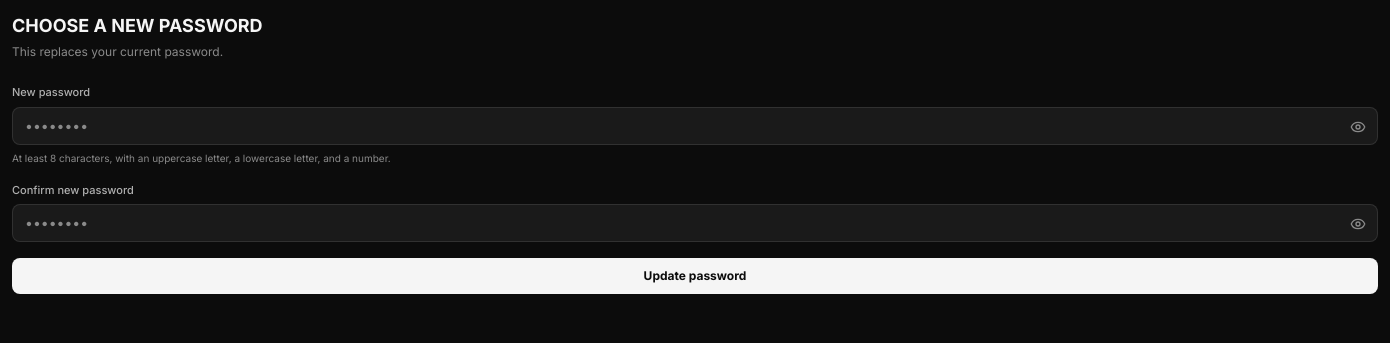
it: ResetPasswordForm › clears a failed reset when either password changes
In the password field labelled "New password": point(695, 126) left=12, top=106, right=1378, bottom=144, type "Memory404"
In the password field labelled "Confirm new password": point(695, 223) left=12, top=204, right=1378, bottom=242, type "Memory404"
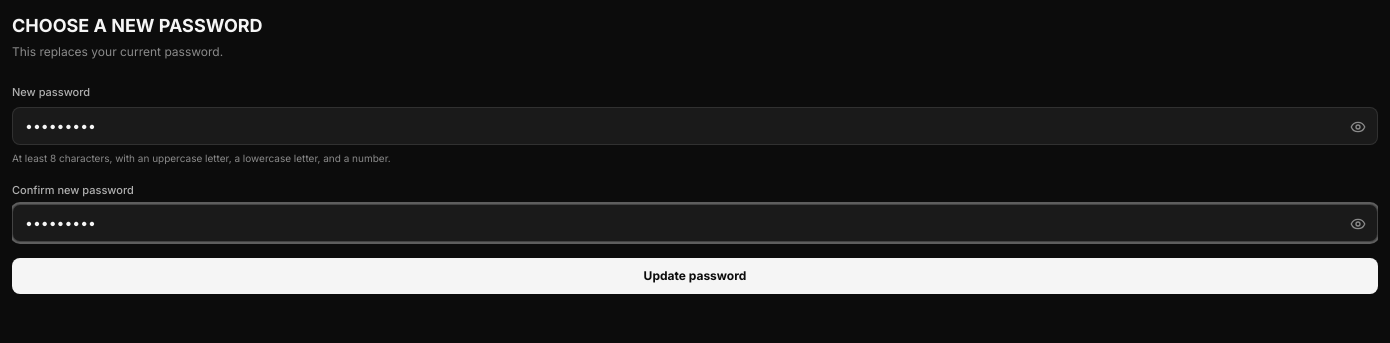
Click the button "Update password": point(695, 276) left=12, top=258, right=1378, bottom=294
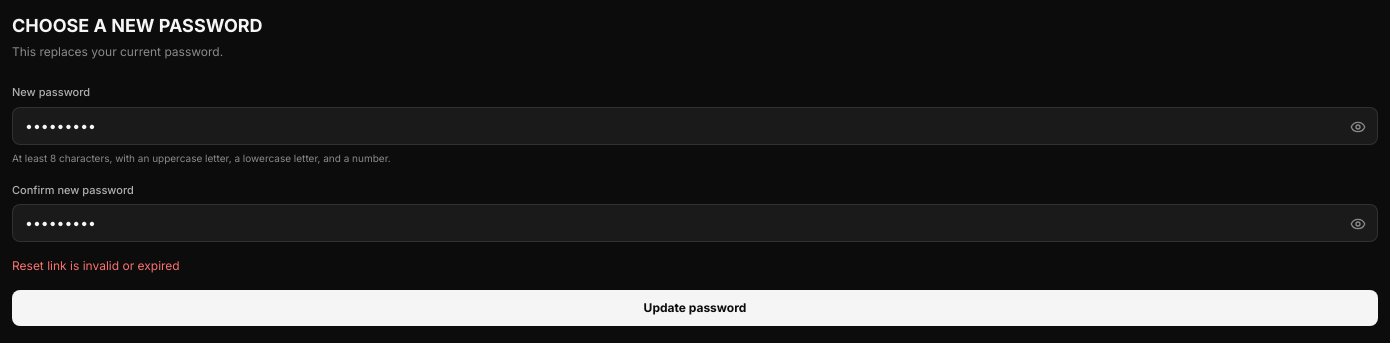
expect the message reads "Reset link is invalid or expired": met, box left=12, top=258, right=180, bottom=273
In the password field labelled "New password": point(695, 126) left=12, top=106, right=1378, bottom=144, type "1"
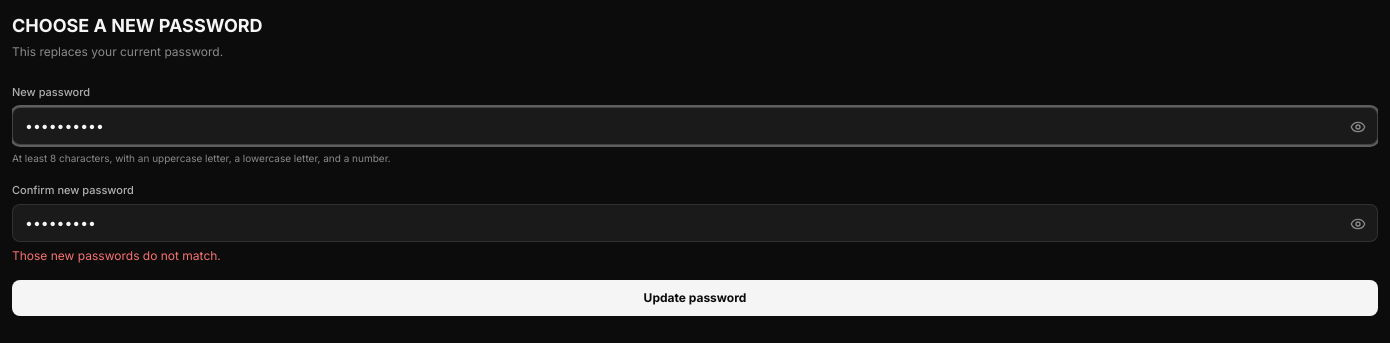
expect the text "Reset link is invalid or expired" is gone: met
In the password field labelled "Confirm new password": point(695, 223) left=12, top=204, right=1378, bottom=242, type "1"
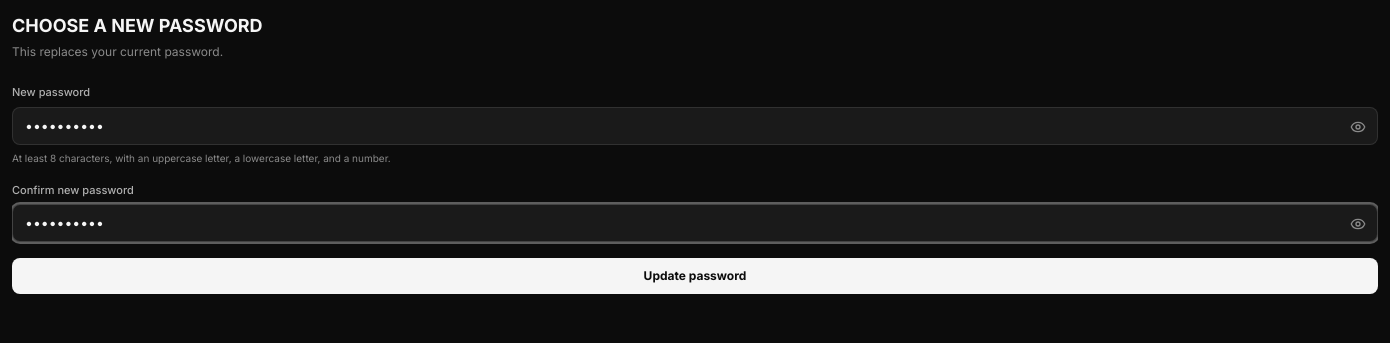
Click the button "Update password": point(695, 276) left=12, top=258, right=1378, bottom=294
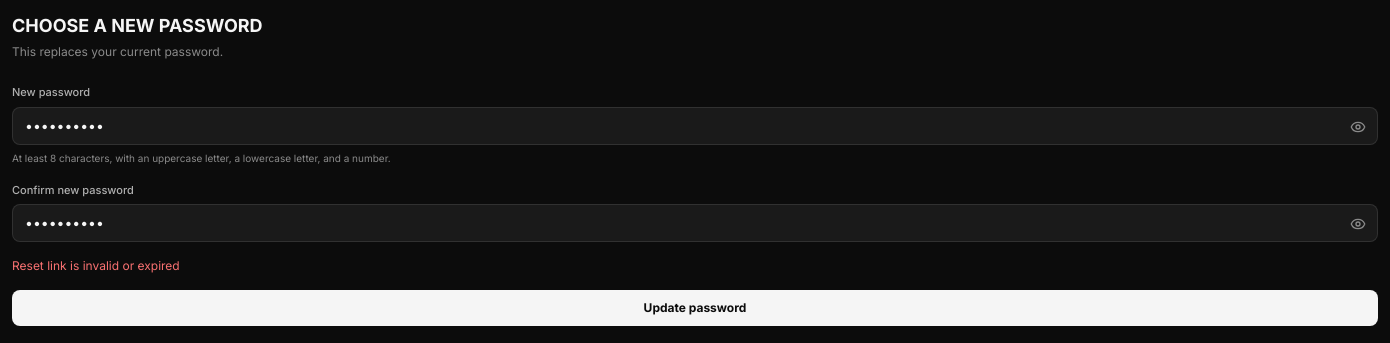
expect the text "Reset link is invalid or expired" is shown: met, box left=12, top=258, right=180, bottom=273
In the password field labelled "Confirm new password": point(695, 223) left=12, top=204, right=1378, bottom=242, type "2"
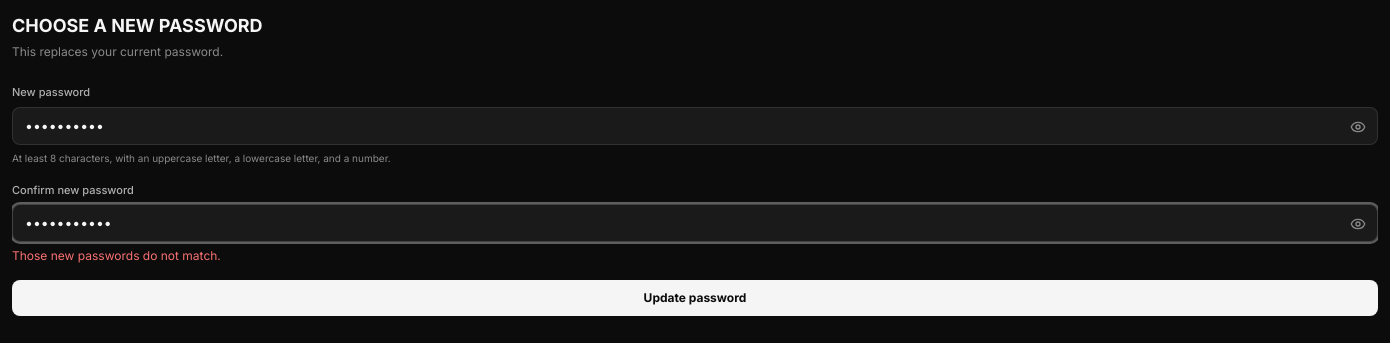
expect the text "Reset link is invalid or expired" is gone: met
